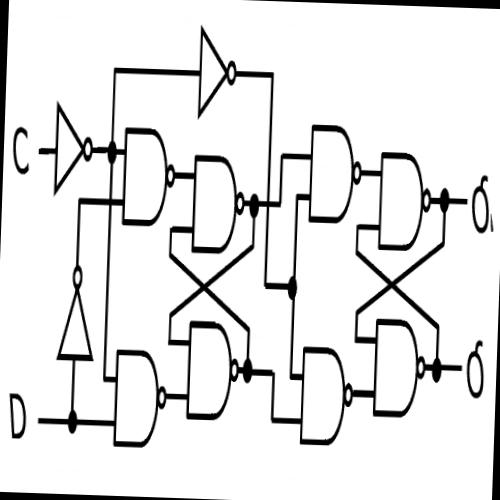nand: (365, 309, 430, 437), (102, 343, 172, 459), (300, 110, 366, 232), (294, 340, 359, 456), (375, 136, 434, 260), (177, 317, 242, 429), (114, 119, 176, 233), (186, 148, 248, 262)
not: (189, 19, 243, 124), (54, 256, 98, 380), (46, 98, 97, 201)
